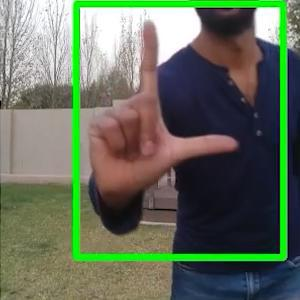land_hand: (83, 14, 240, 204)
